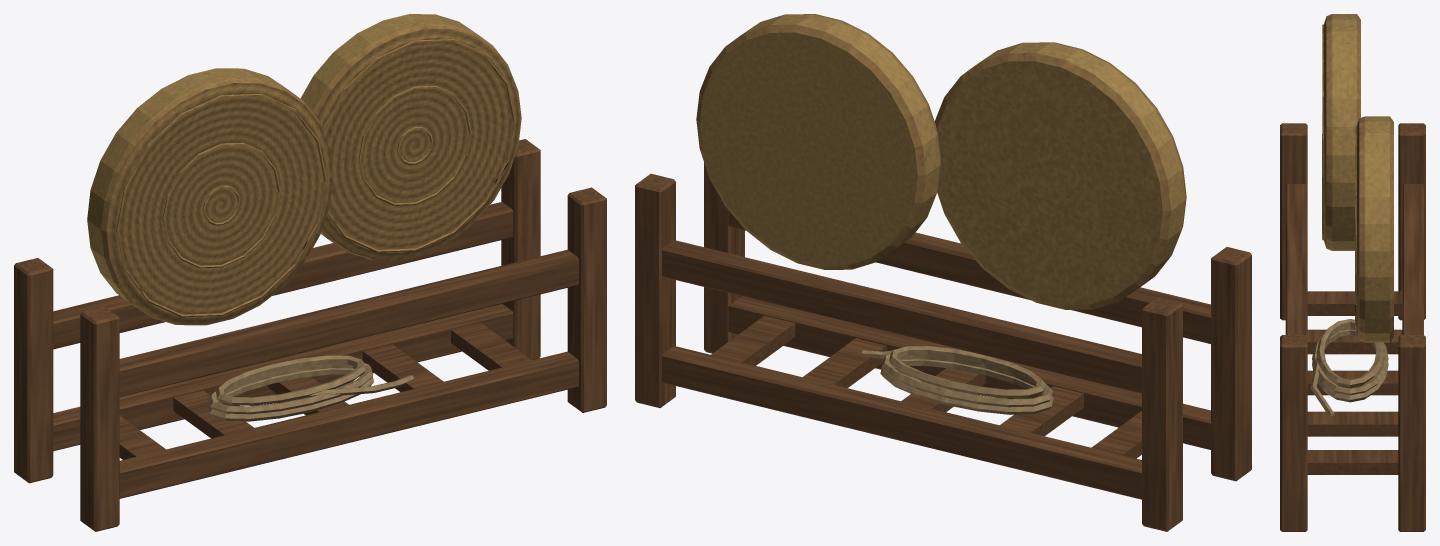
The model's file is TrialSpareTargets_LOD0.fbx.
The picture shows the model from 3 angles, left to right: view 1: azimuth 30°, elevation 25°; view 2: azimuth 150°, elevation 25°; view 3: azimuth 270°, elevation 25°; orthographic projection. The views are drawn at different scales.
Visible parts, largest first — view 1: TrialSpareTargets; view 2: TrialSpareTargets; view 3: TrialSpareTargets.
Boxes of the visible parts, left/top/right/bottom form: TrialSpareTargets: left=14, top=14, right=606, bottom=531; TrialSpareTargets: left=635, top=14, right=1251, bottom=531; TrialSpareTargets: left=1280, top=14, right=1425, bottom=531.
Size of the model in its own units: 1.57 by 1.15 by 0.434.
Materials: 1 (1 with a texture image).
